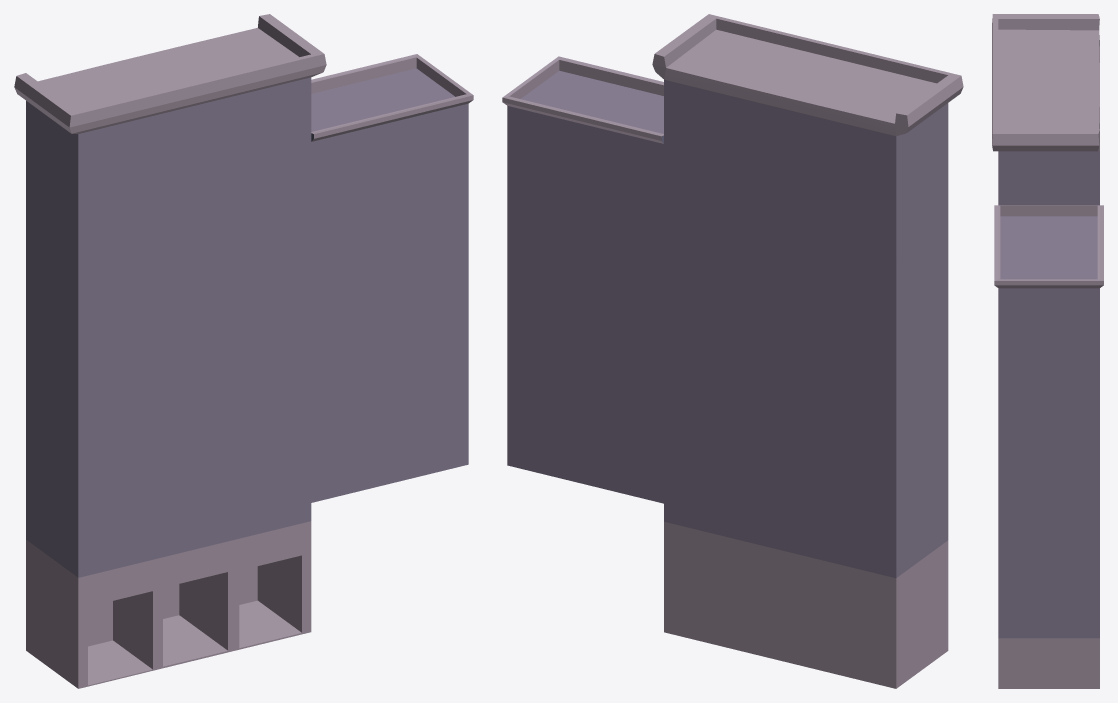
File: building_F_6floors.fbx
3 views of the same model, side by side, from view 1: azimuth 30°, elevation 25°; view 2: azimuth 150°, elevation 25°; view 3: azimuth 270°, elevation 25° (orthographic). The views are drawn at different scales.
Parts seen in each view (by area): view 1: building_F_6floors; view 2: building_F_6floors; view 3: building_F_6floors.
Part boxes in pixels (x1,y1,x2,y2): building_F_6floors: (14,14,473,688); building_F_6floors: (502,14,963,688); building_F_6floors: (992,14,1103,688).
Bounding box in the file's own units: 14.02 × 19.1 × 3.46.
